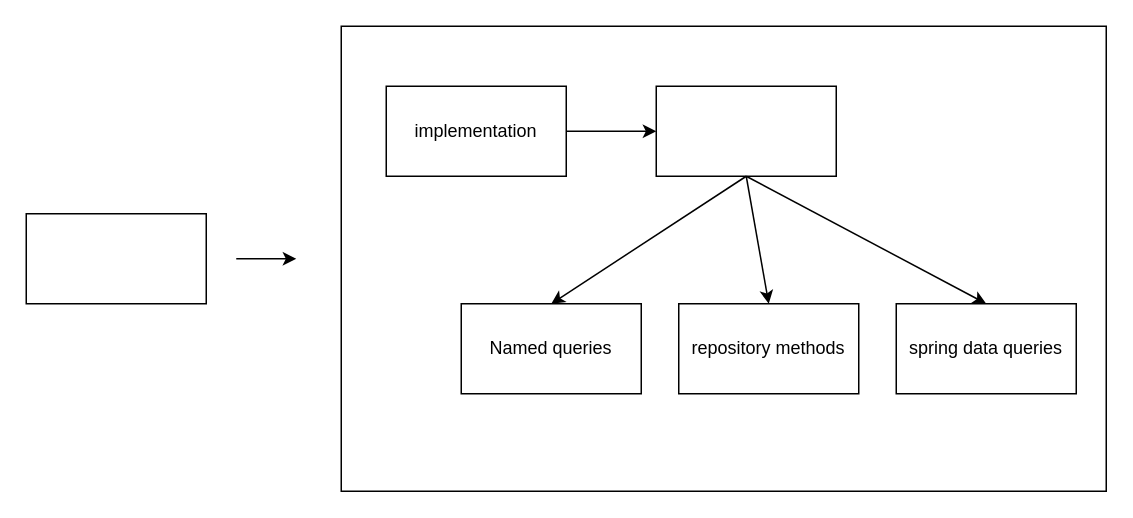
The diagram is 1133 pixels wide and 518 high, and some of its shapes have lost their labels. Each missing label, with the box of its shape:
JPA Repositories: (655, 85, 836, 176)
queries: (25, 212, 206, 304)
